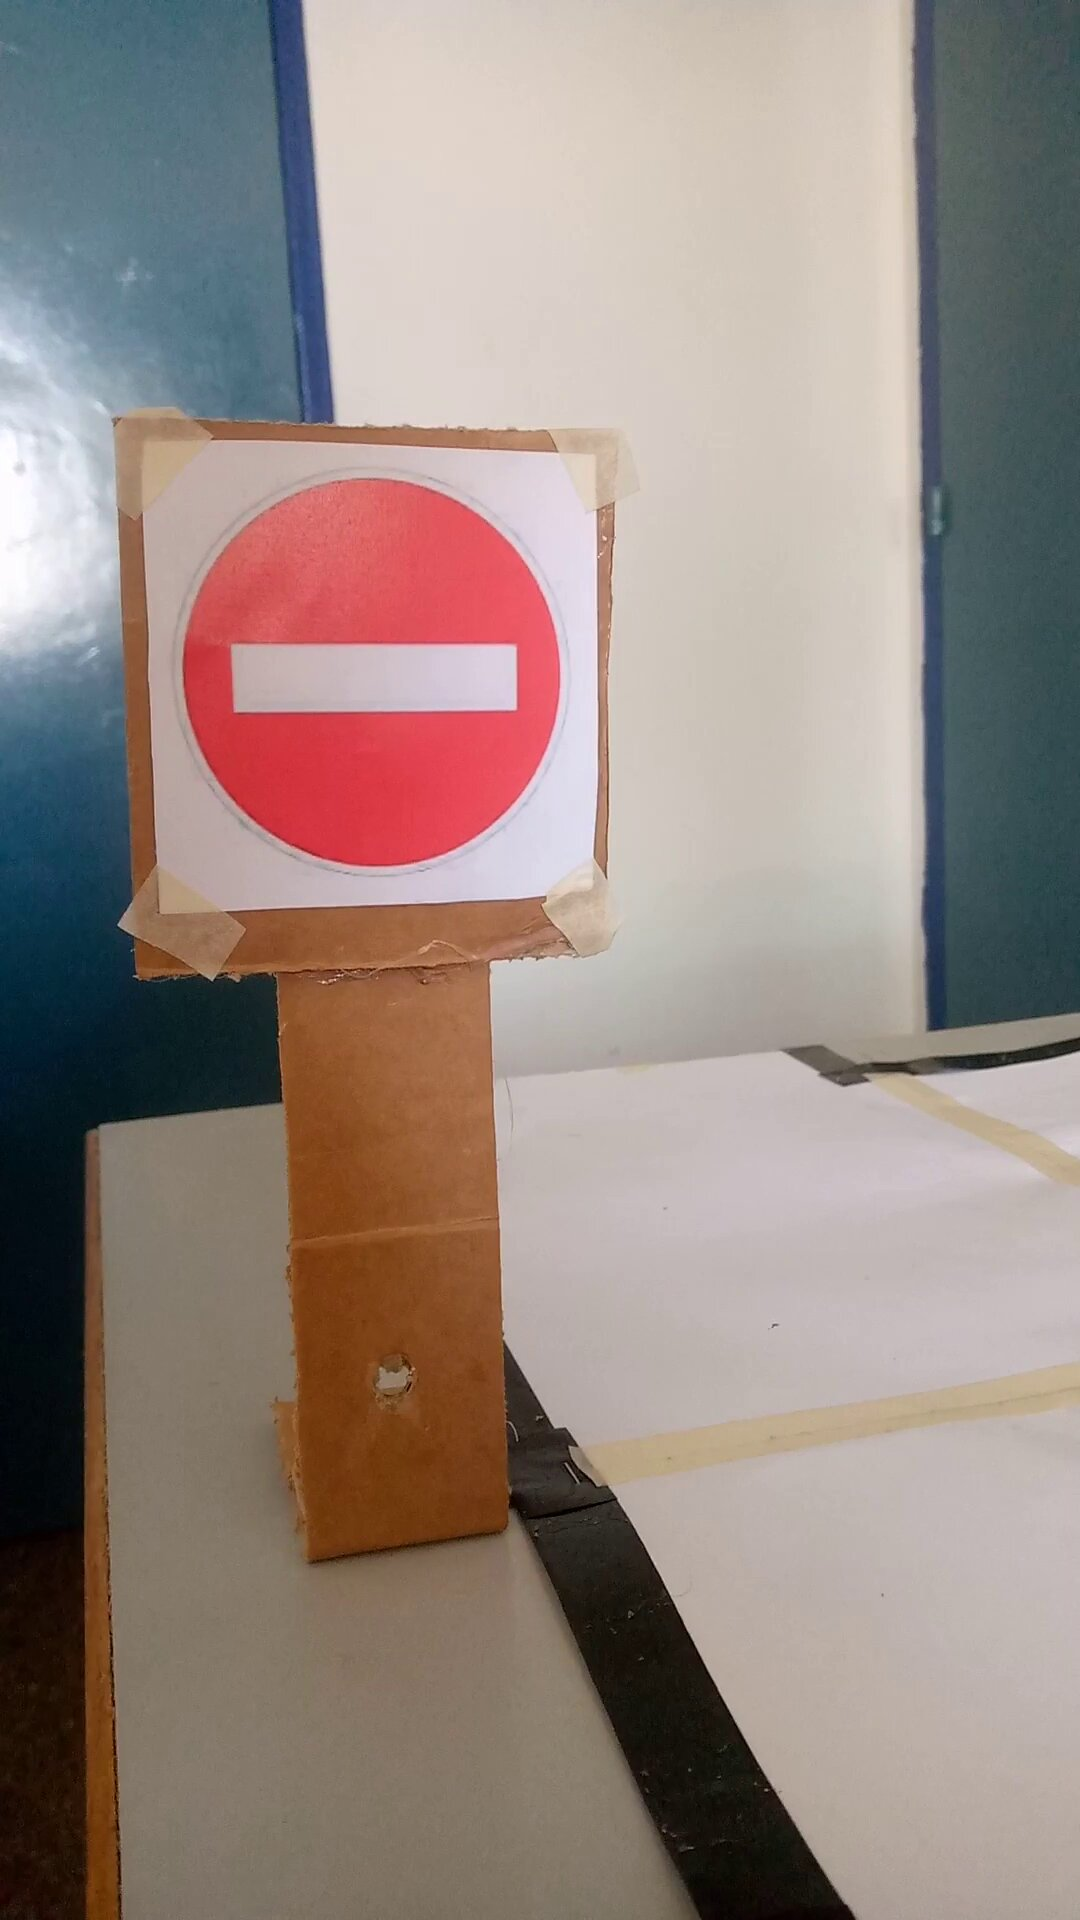panel010: (141, 434, 607, 911)
